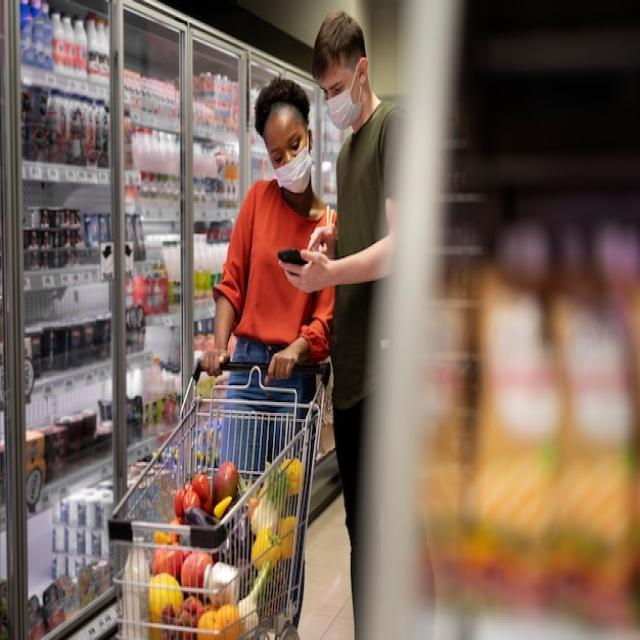Person: (278, 9, 435, 640), (200, 73, 337, 640)
